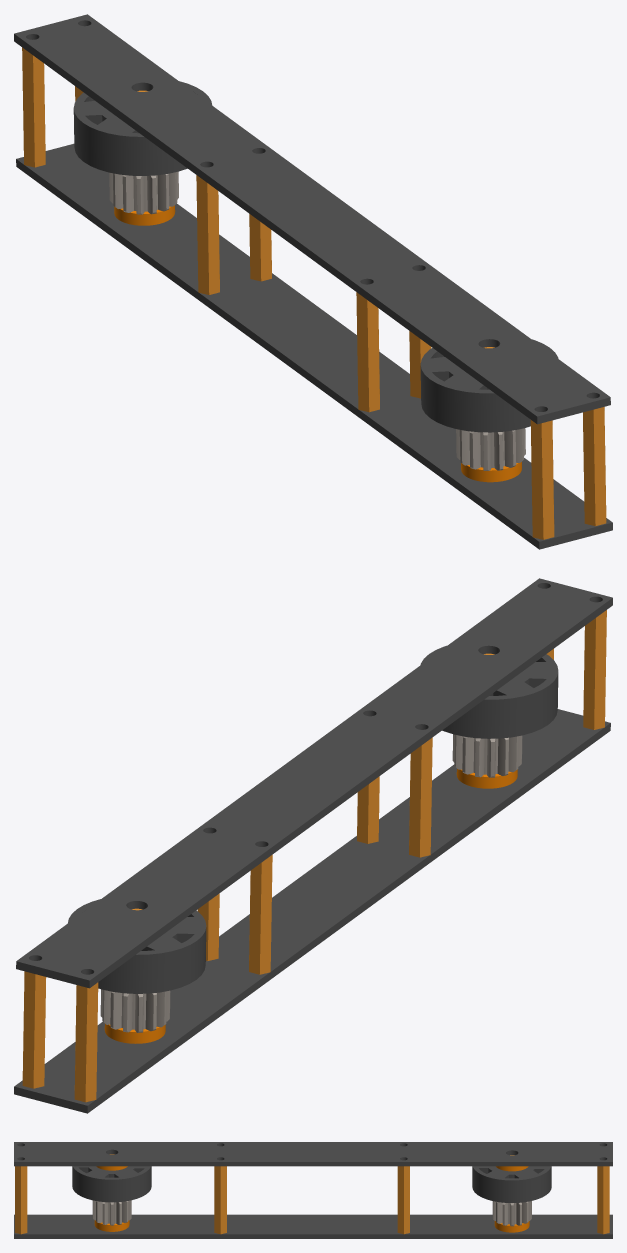
3 views of the same model, one above another, from view 1: azimuth 30°, elevation 25°; view 2: azimuth 150°, elevation 25°; view 3: azimuth 270°, elevation 25° (orthographic). The views are drawn at different scales.
Visible parts, largest first — view 1: Part 1 (×13), am-0034 14T 20DP 14.5PA 8mm Key Bore Gear (×2); view 2: Part 1 (×13), am-0034 14T 20DP 14.5PA 8mm Key Bore Gear (×2); view 3: Part 1 (×10), am-0034 14T 20DP 14.5PA 8mm Key Bore Gear (×2).
Part boxes in pixels (left/top/right/bottom): Part 1 (×13): left=14, top=14, right=612, bottom=549; am-0034 14T 20DP 14.5PA 8mm Key Bore Gear (×2): left=109, top=171, right=525, bottom=470; Part 1 (×13): left=14, top=578, right=612, bottom=1113; am-0034 14T 20DP 14.5PA 8mm Key Bore Gear (×2): left=100, top=734, right=522, bottom=1032; Part 1 (×10): left=14, top=1142, right=612, bottom=1238; am-0034 14T 20DP 14.5PA 8mm Key Bore Gear (×2): left=92, top=1200, right=531, bottom=1226.
Bounding box in the file's own units: 0.0417 × 0.0436 × 0.3064.
